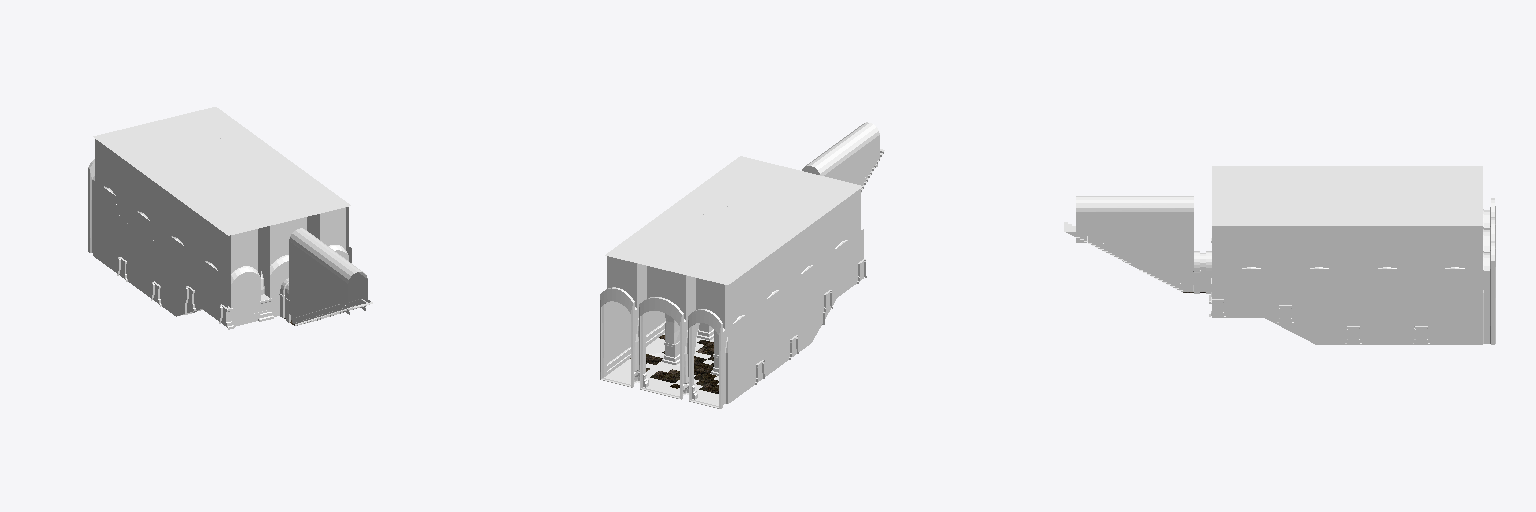
3 renders of one model, left to right at view 1: azimuth 30°, elevation 25°; view 2: azimuth 150°, elevation 25°; view 3: azimuth 270°, elevation 25°, orthographic.
Visible parts, largest first — view 1: mesh0, mesh8, mesh4, mesh5; view 2: mesh0, mesh8, mesh4, mesh3, mesh6, mesh5, mesh7; view 3: mesh0, mesh8, mesh4, mesh7.
Part boxes in pixels (x1,y1,x2,y2): mesh0: (88, 107, 367, 317); mesh8: (93, 180, 370, 327); mesh4: (95, 139, 348, 307); mesh5: (117, 257, 273, 329); mesh0: (600, 122, 879, 408); mesh8: (607, 229, 863, 403); mesh4: (607, 189, 860, 393); mesh3: (601, 329, 718, 408); mesh6: (630, 335, 718, 393); mesh5: (662, 259, 866, 384); mesh7: (607, 160, 877, 374); mesh0: (1076, 166, 1495, 344); mesh8: (1066, 232, 1482, 344); mesh4: (1212, 226, 1489, 292); mesh7: (1076, 236, 1193, 291).
Bounding box in the file's own units: 13 × 11.7 × 38.16.
Materials: 11 (2 with a texture image).